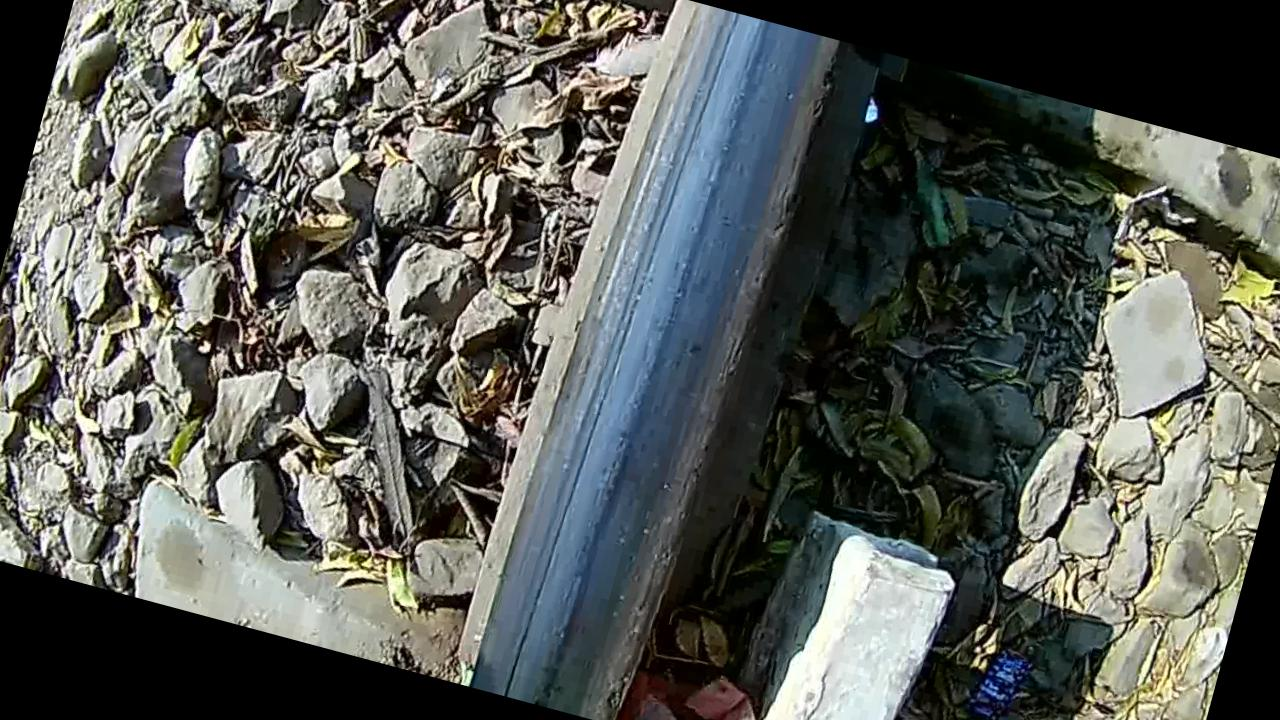clip_missing: (483, 0, 833, 720)
